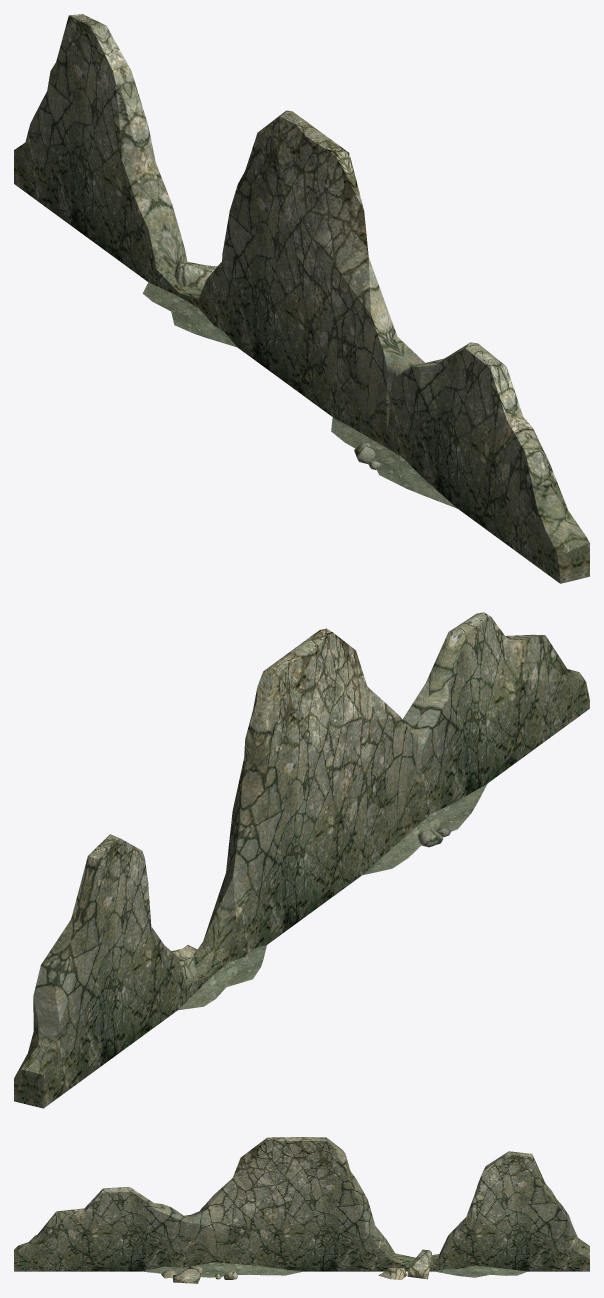
Rendered from thm_nboo_gungan_wall_ruined_lg_s01_l0.fbx.
3 renders of one model, top to bottom at view 1: azimuth 30°, elevation 25°; view 2: azimuth 150°, elevation 25°; view 3: azimuth 270°, elevation 25°, orthographic. The views are drawn at different scales.
Visible parts, largest first — view 1: mesh_node; view 2: mesh_node; view 3: mesh_node.
Boxes of the visible parts, left/top/right/bottom form: mesh_node: left=14, top=14, right=589, bottom=583; mesh_node: left=14, top=612, right=589, bottom=1108; mesh_node: left=14, top=1137, right=589, bottom=1283.
Bounding box in the file's own units: 1.8 × 4.07 × 16.
